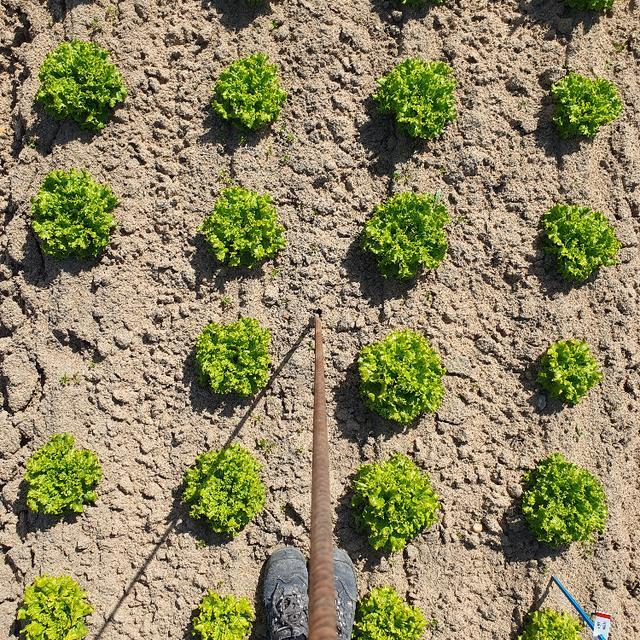Lettuce: (340, 448, 450, 554), (507, 455, 613, 553), (352, 184, 455, 284), (350, 325, 447, 428), (175, 440, 272, 540), (28, 165, 125, 260), (35, 34, 133, 128), (366, 50, 462, 145), (190, 180, 288, 273), (15, 430, 105, 523), (188, 313, 282, 402), (538, 192, 624, 285), (198, 45, 285, 135), (530, 333, 608, 412), (547, 65, 623, 145), (12, 570, 93, 640), (355, 581, 435, 640), (188, 588, 260, 640), (519, 596, 593, 640)
